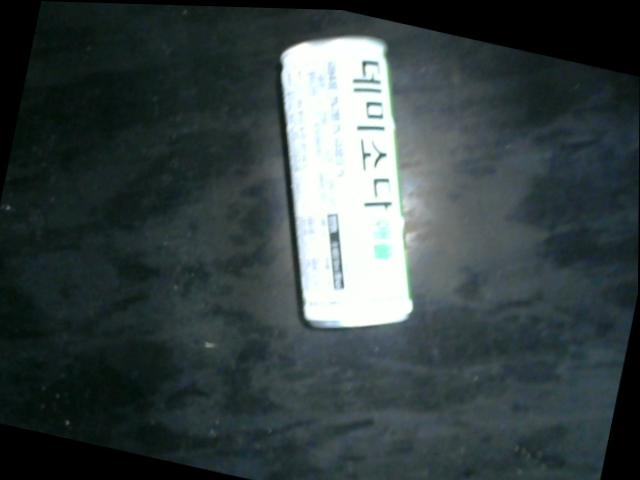can: (276, 32, 415, 328)
